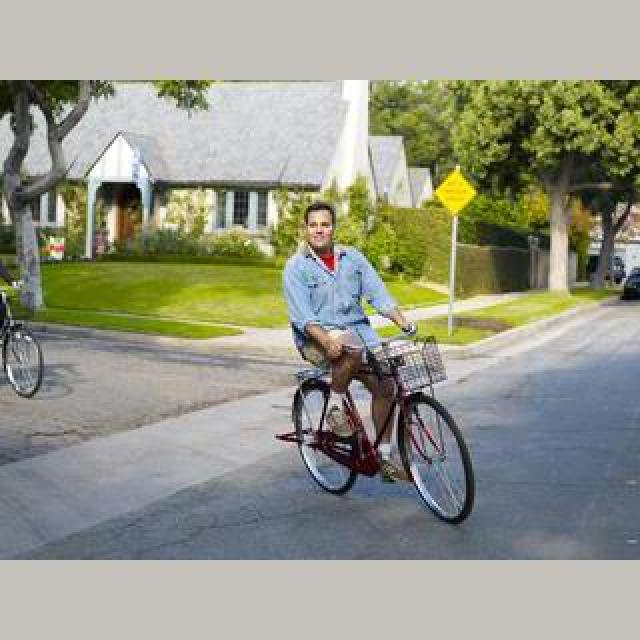MC-Bike: (284, 200, 416, 476)
Person: (288, 332, 476, 522), (0, 284, 44, 396)
